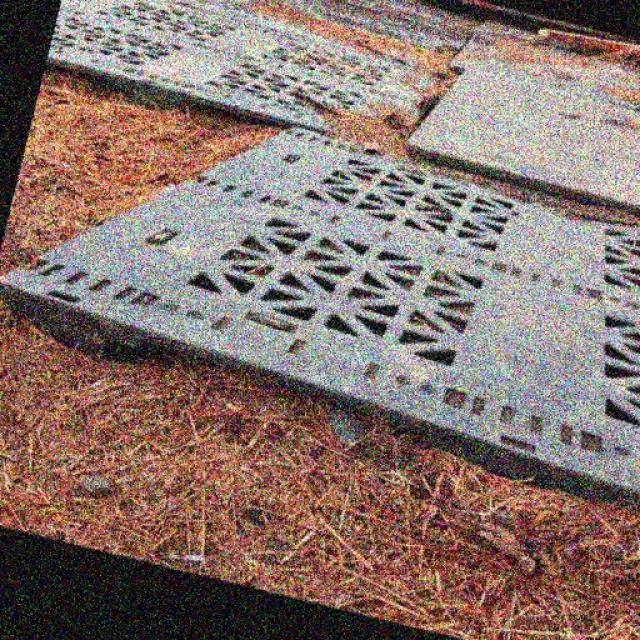non-igps: (0, 122, 640, 521), (42, 0, 459, 185), (397, 60, 640, 221)
